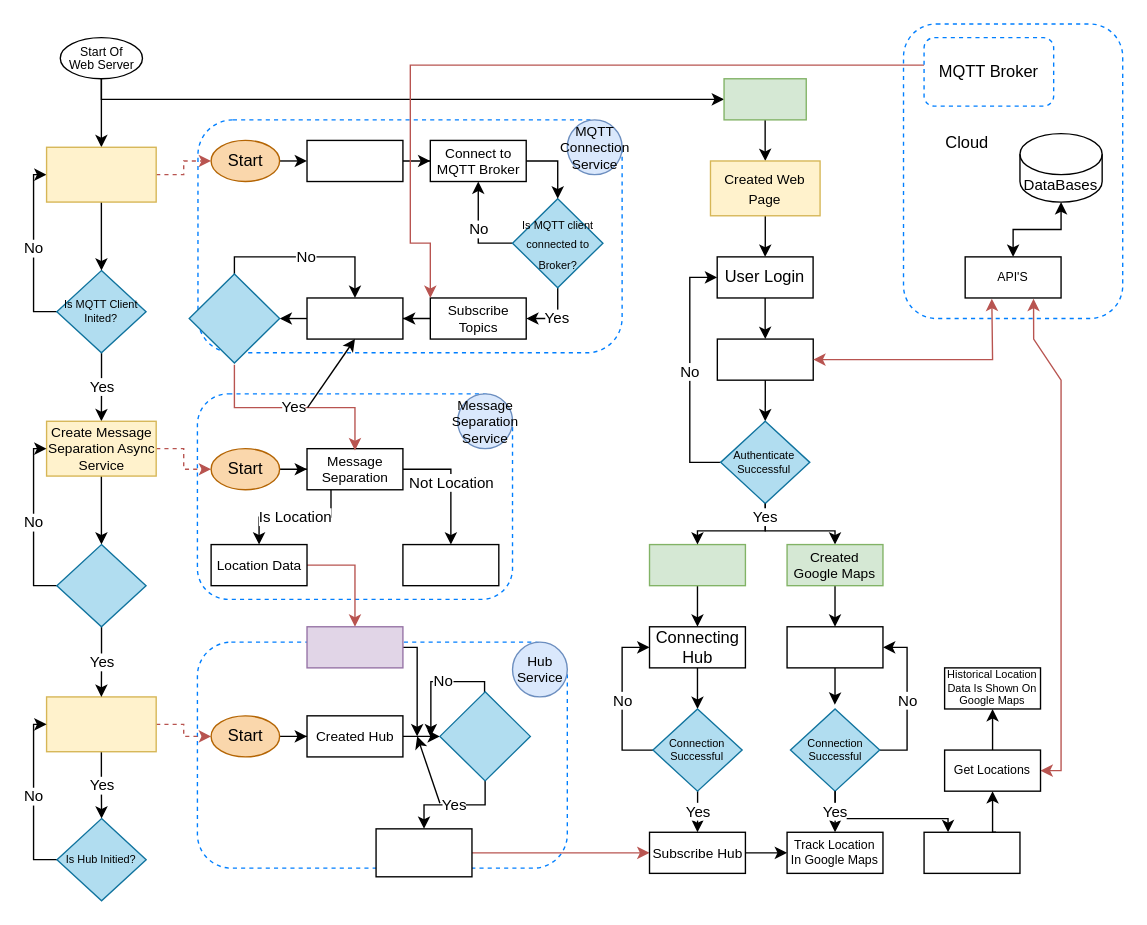
Some shapes in this 1147 by 925 pixel diagram are drawn without their labels. Here are the shapes that lost their labels. From the top down, the centre of each, then its label:
pixel 764 98: Launched Web App
pixel 100 174: Create MQTT Connection Async Service
pixel 354 160: Building MQTT Options Data
pixel 234 318: Is There Any Message?
pixel 354 318: Listen To Topics
pixel 764 359: Authenticate
pixel 450 564: Save Log
pixel 696 564: Created SignalR Client
pixel 100 585: Is Message Service Inited?
pixel 354 646: Received Location
pixel 834 646: Connecting Google Maps
pixel 100 724: Create SignalR Hub Async Service
pixel 484 735: Are there any messages waiting to be delivered?
pixel 423 852: Publish Message
pixel 971 852: User Clicks 'Get History' Button
